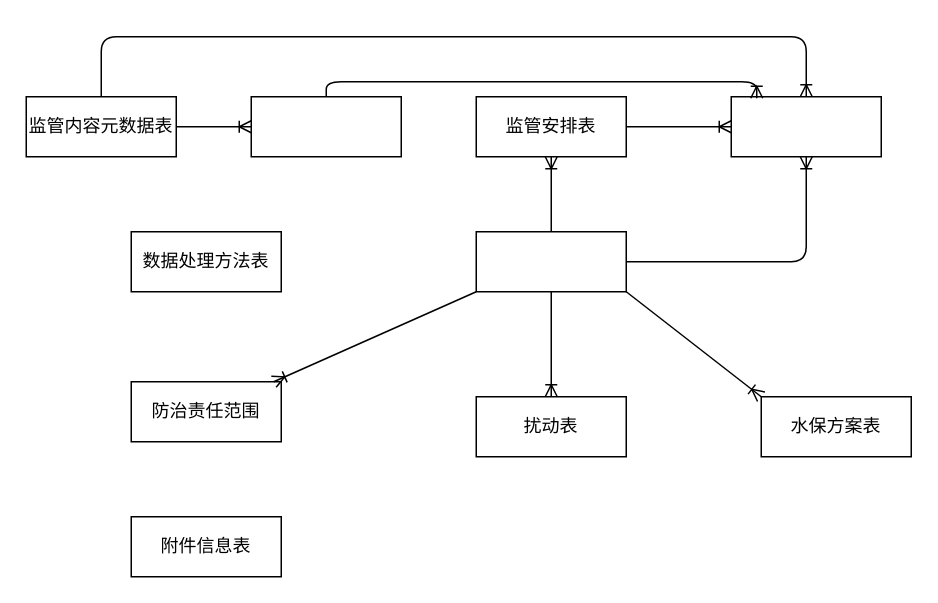
Image size: 938x603. Some labels were removed from this diagram. The centre of each missing label's shape, as x and y in pixels:
"生产建设项目基本信息表" belongs at pixel 550 261.
"监管内容" belongs at pixel 325 126.
"监管记录表" belongs at pixel 805 126.
